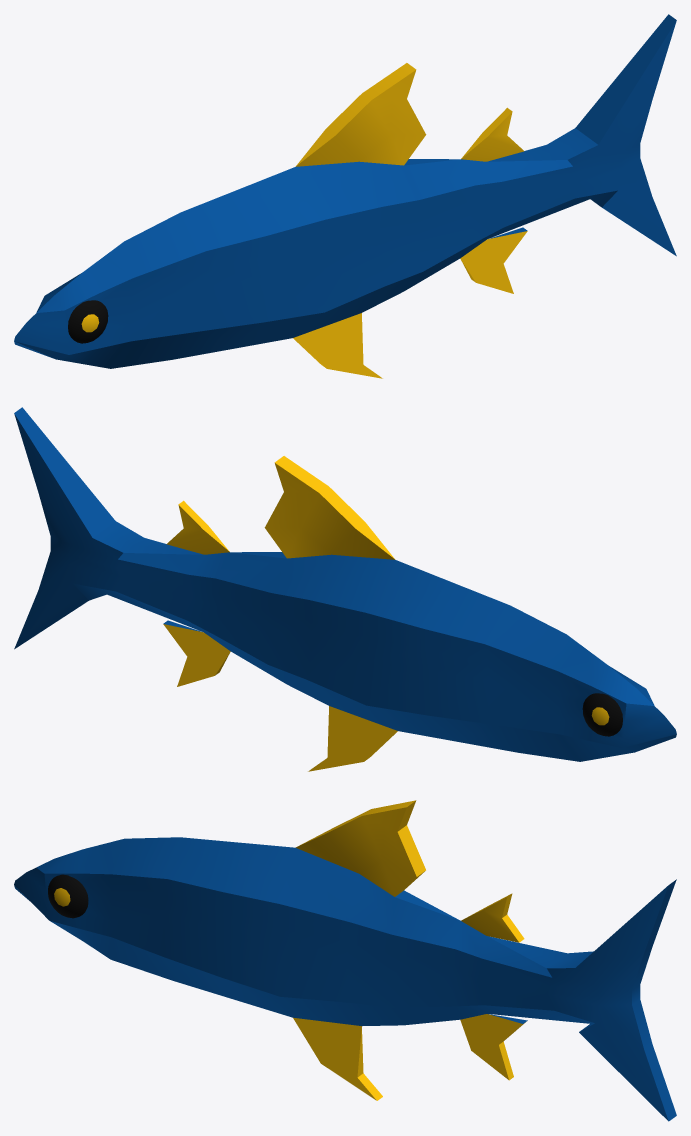
The model's file is lowPoly_fish.fbx.
The picture shows the model from 3 angles, top to bottom: view 1: azimuth 30°, elevation 25°; view 2: azimuth 150°, elevation 25°; view 3: azimuth 330°, elevation 25°; orthographic projection.
Parts seen in each view (by area): view 1: Plane; view 2: Plane; view 3: Plane.
Part boxes in pixels (x1,y1,x2,y2): Plane: (14,14,676,378); Plane: (14,407,676,771); Plane: (14,800,676,1121).
Size of the model in its own units: 2.48 by 1.09 by 0.2918.
